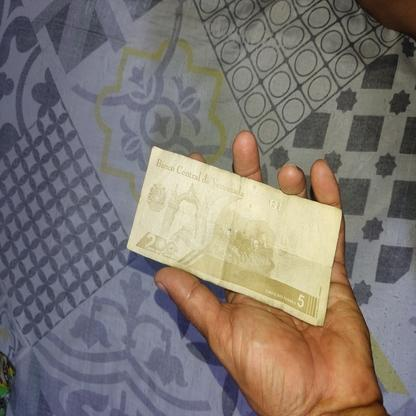five-back-vef: (127, 146, 342, 326)
